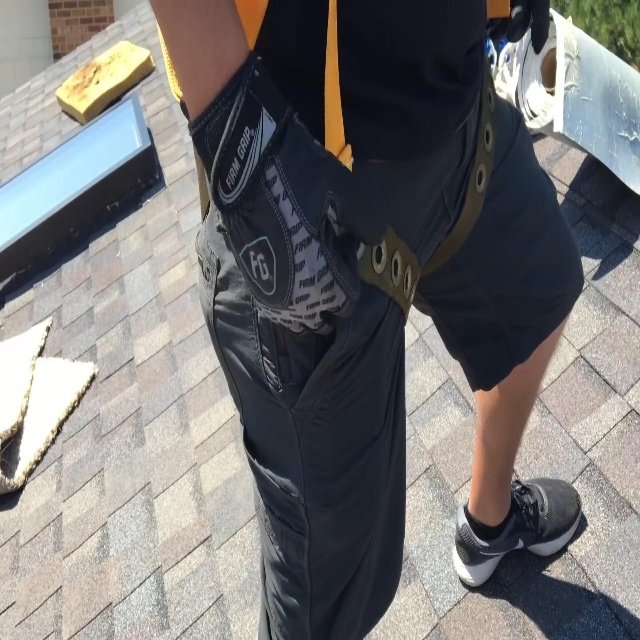Arnes_seguridad: (150, 0, 541, 328)
